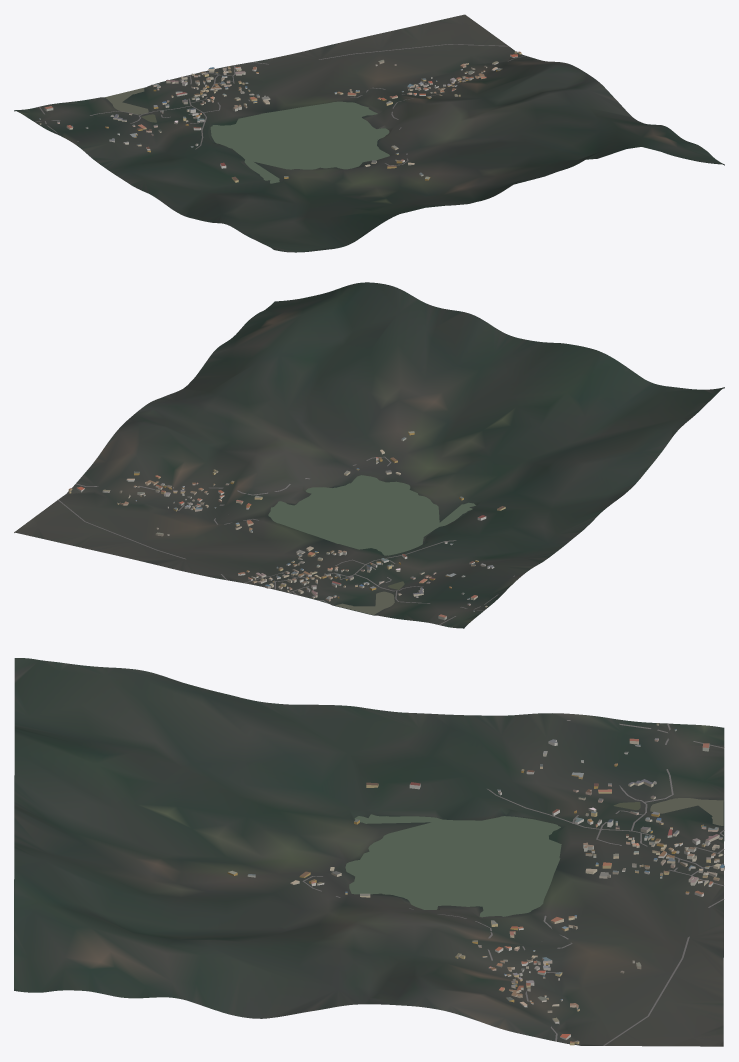
The picture shows the model from 3 angles, top to bottom: view 1: azimuth 30°, elevation 25°; view 2: azimuth 150°, elevation 25°; view 3: azimuth 270°, elevation 25°; orthographic projection. The views are drawn at different scales.
Visible parts, largest first — view 1: ground, water, buildings, roads; view 2: ground, water, buildings, roads; view 3: ground, water, buildings, roads.
Boxes of the visible parts, box(x1,y1,x2,y2) form: ground: box(14, 14, 724, 252); water: box(105, 88, 389, 183); buildings: box(39, 51, 521, 182); roads: box(35, 44, 525, 165); ground: box(14, 282, 724, 628); water: box(268, 475, 475, 614); buildings: box(68, 431, 505, 620); roads: box(58, 456, 514, 624); ground: box(14, 658, 724, 1046); water: box(345, 798, 723, 917); buildings: box(227, 723, 724, 1045); roads: box(302, 720, 724, 1045).
Bounding box in the file's own units: 1403 × 255 × 1405.
